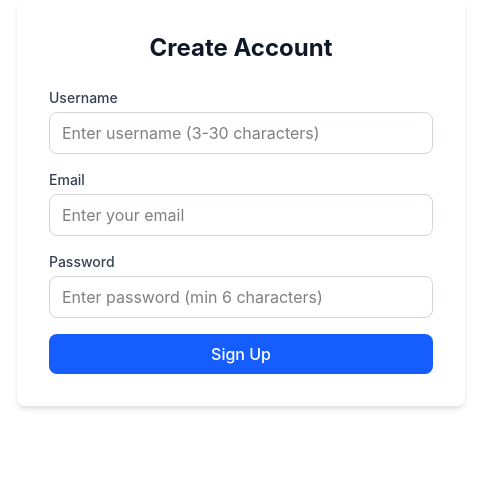
Test case: SignUp Component › Username Validation - Requirement 1.6 › should show error for empty username
The image size is (483, 499).
What coordinates should you click on to do the following:
click the button "Sign Up"
I would click on:
 (241, 354)
Its box is [49,334,433,374].
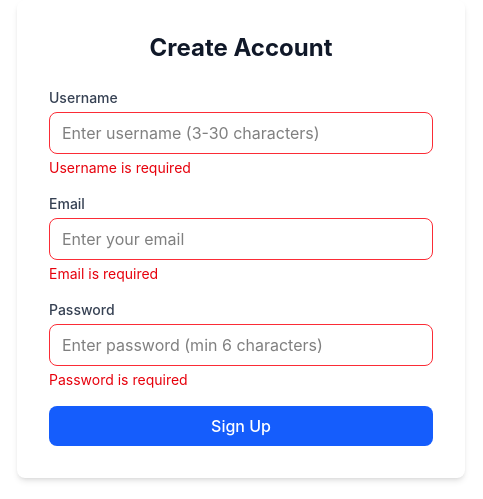
Expected: the text "Username is required" is shown, [49,159,191,176]
